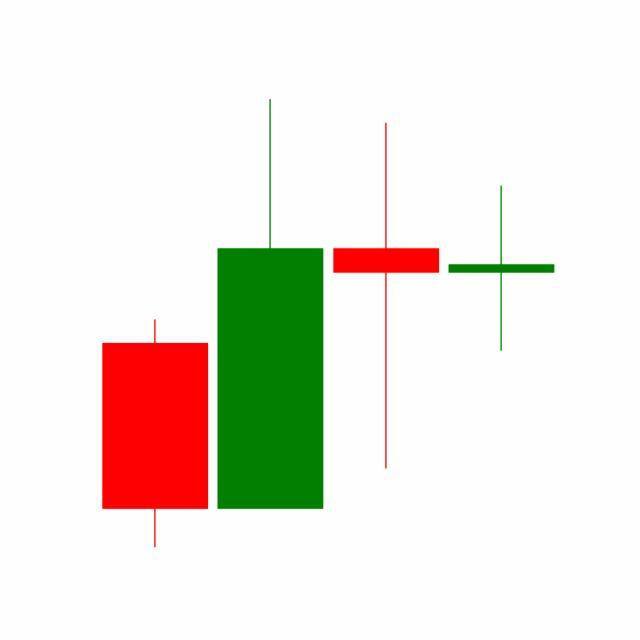Spinning Top: (444, 184, 560, 354)
